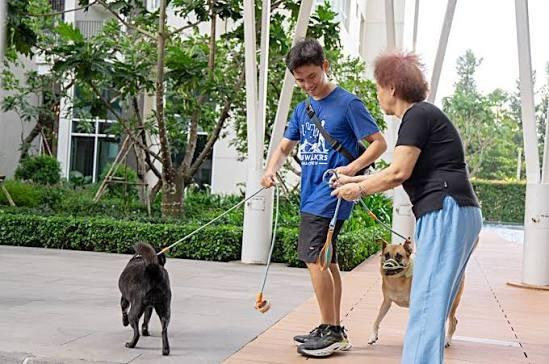adult_dog: (367, 238, 469, 350), (117, 242, 172, 356)
